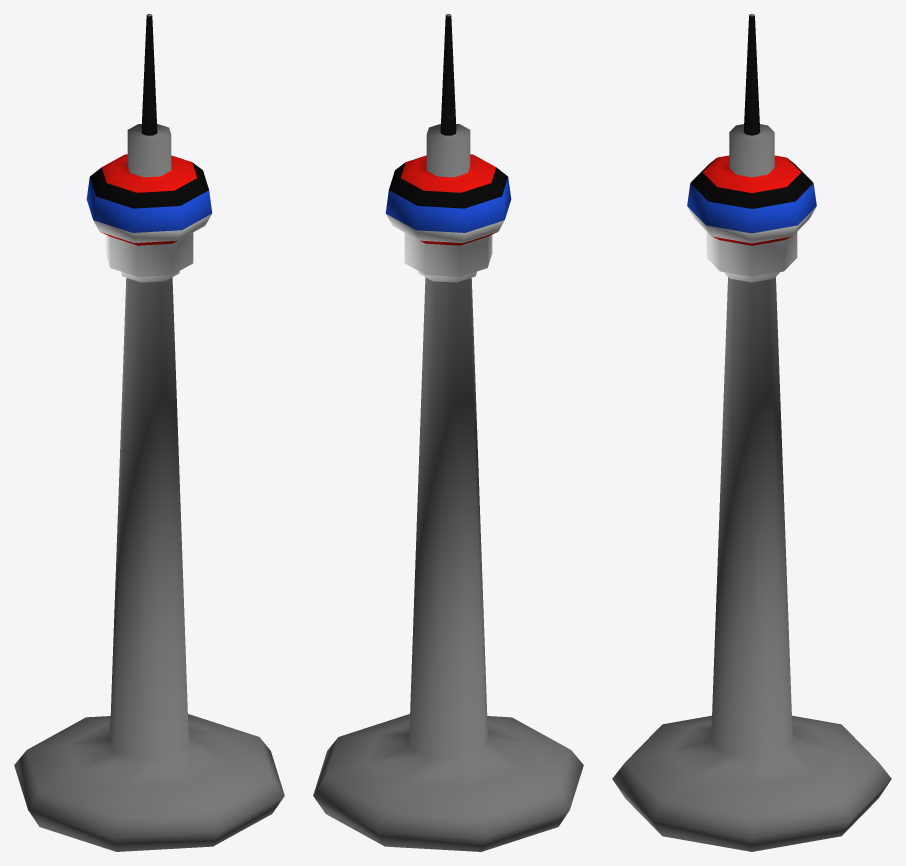
The model's file is CN Tower.fbx.
The picture shows the model from 3 angles, left to right: view 1: azimuth 30°, elevation 25°; view 2: azimuth 150°, elevation 25°; view 3: azimuth 270°, elevation 25°; orthographic projection.
Visible parts, largest first — view 1: tower.004; view 2: tower.004; view 3: tower.004.
Boxes of the visible parts, x1,y1,x2,y2 form: tower.004: (14,14,284,851); tower.004: (313,14,583,851); tower.004: (612,14,891,851).
Size of the model in its own units: 400 by 1236 by 400.
